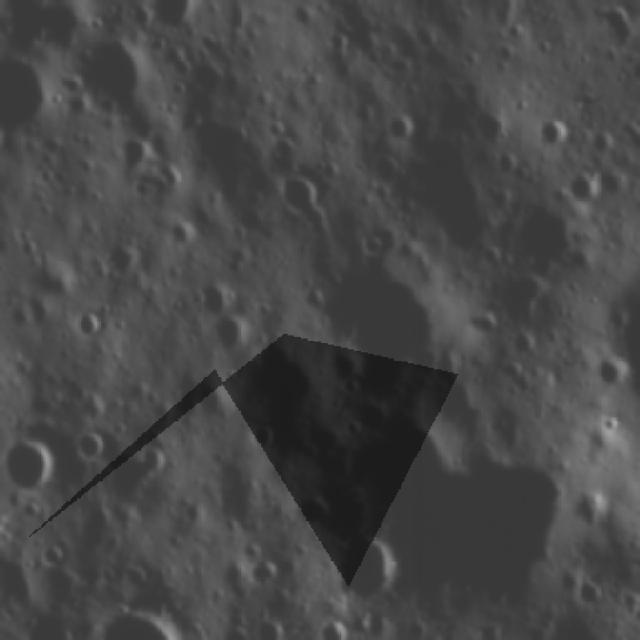crater: (325, 237, 457, 409), (72, 41, 172, 136), (512, 186, 585, 294), (330, 534, 410, 609), (0, 48, 54, 146), (78, 601, 186, 640), (0, 433, 65, 496), (147, 0, 210, 45), (198, 310, 247, 367), (126, 439, 180, 488), (290, 488, 338, 540), (67, 426, 118, 472), (323, 342, 368, 391), (238, 420, 290, 462), (377, 102, 423, 144), (588, 346, 627, 391), (477, 110, 514, 156), (527, 118, 576, 150), (74, 306, 111, 342), (31, 536, 67, 573), (245, 558, 282, 592), (631, 218, 640, 277)
